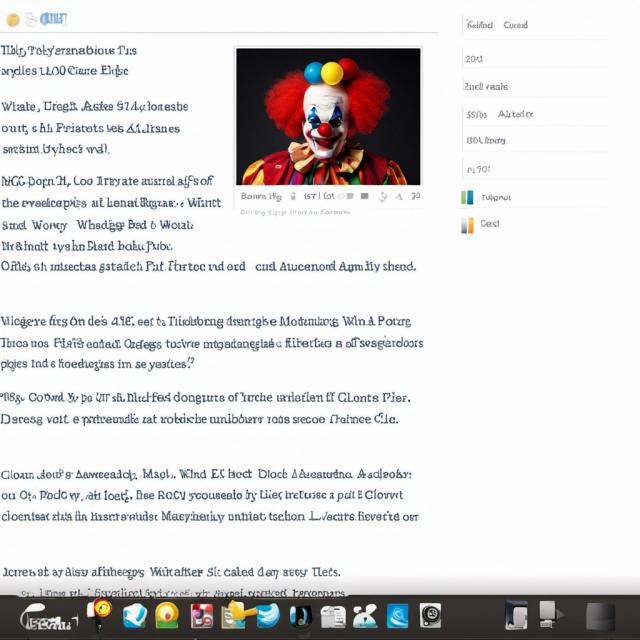clown: (235, 54, 415, 183)
